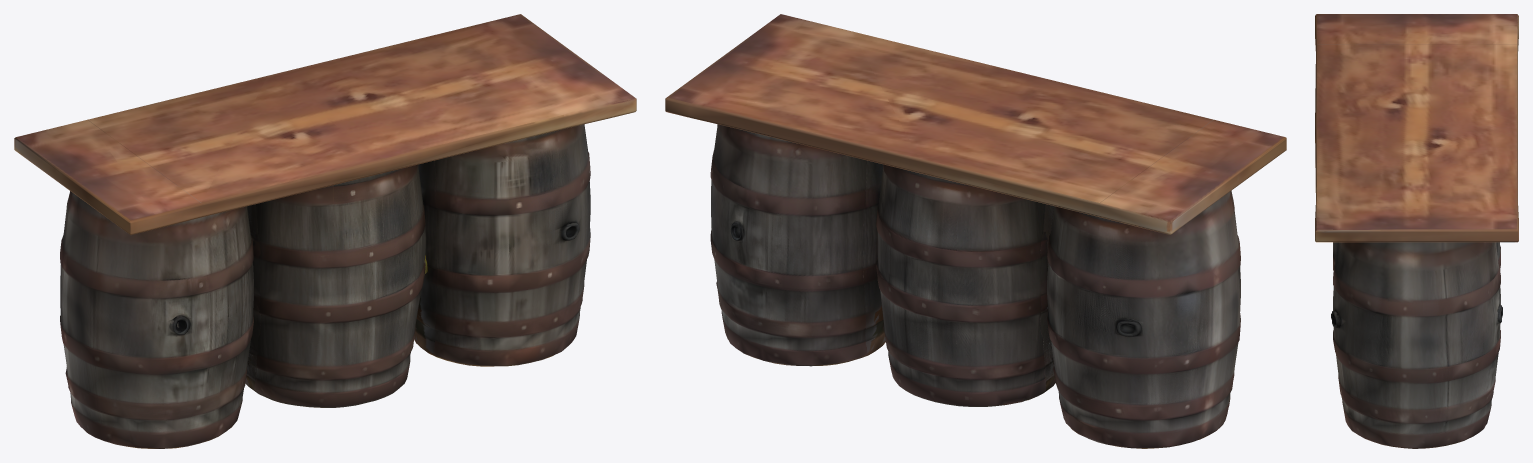
Rendered from 3_barrel_bar_0122014741_texture.glb.
3 views of the same model, side by side, from view 1: azimuth 30°, elevation 25°; view 2: azimuth 150°, elevation 25°; view 3: azimuth 270°, elevation 25° (orthographic). The views are drawn at different scales.
Visible parts, largest first — view 1: Mesh_0; view 2: Mesh_0; view 3: Mesh_0.
Boxes of the visible parts, bbox=[...] form: Mesh_0: bbox=[14, 14, 636, 448]; Mesh_0: bbox=[665, 14, 1286, 448]; Mesh_0: bbox=[1315, 14, 1518, 448].
Bounding box in the file's own units: 2.2 × 1.07 × 0.8761.
1 material, 1 textured.
